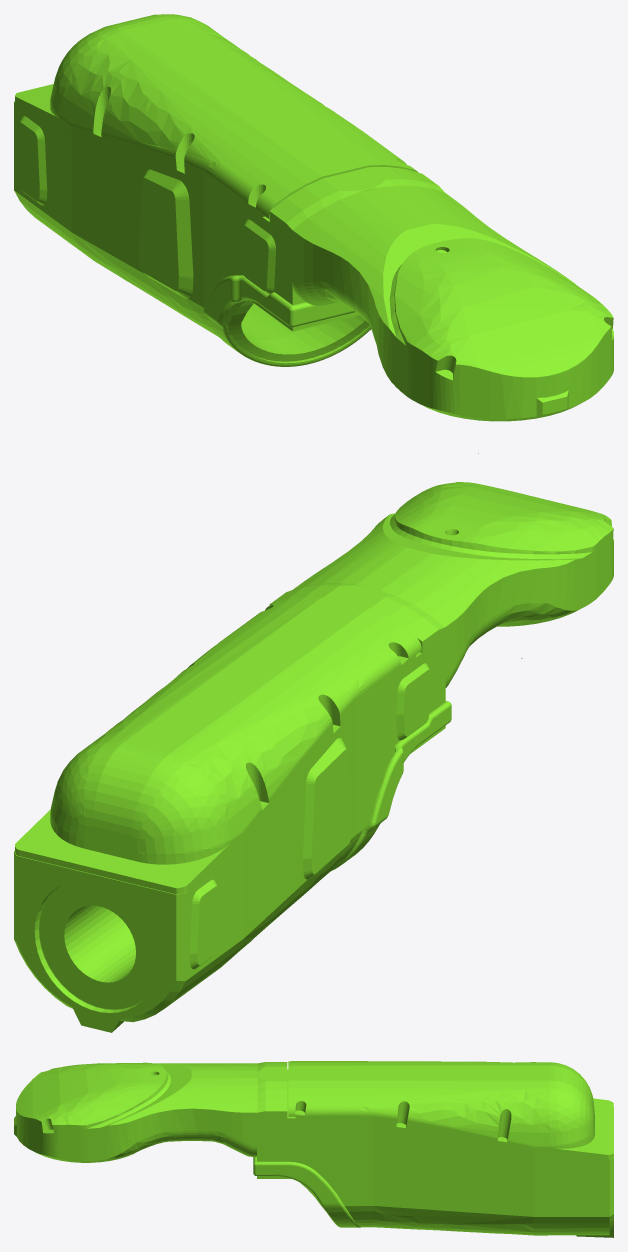
The picture shows the model from 3 angles, top to bottom: view 1: azimuth 30°, elevation 25°; view 2: azimuth 150°, elevation 25°; view 3: azimuth 270°, elevation 25°; orthographic projection. The views are drawn at different scales.
Visible parts, largest first — view 1: node; view 2: node; view 3: node.
Boxes of the visible parts, x1,y1,x2,y2 form: node: (14, 14, 613, 453); node: (14, 482, 613, 1032); node: (14, 1061, 613, 1237).
Size of the model in its own units: 158 by 198 by 675.
